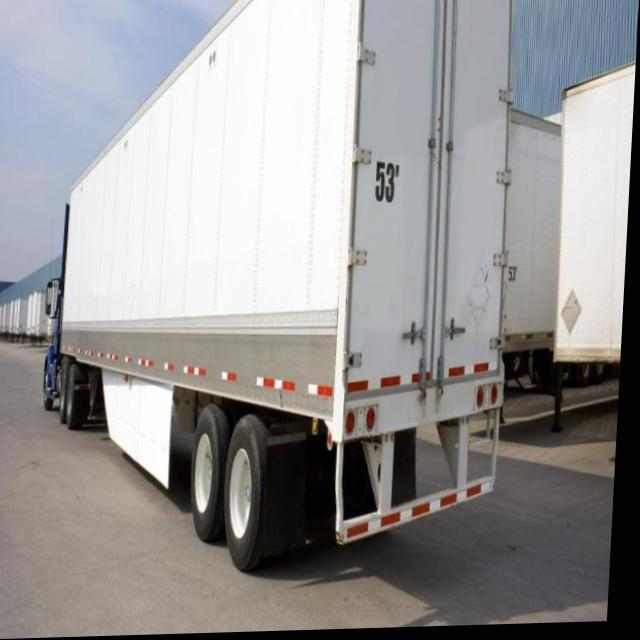covered: (29, 0, 511, 607)
